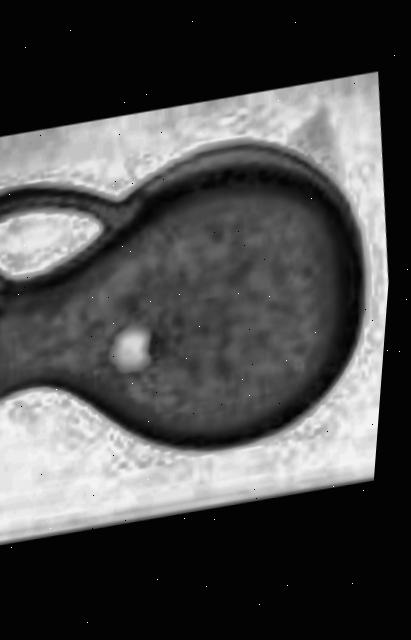El Cantarito: (0, 73, 406, 545)
